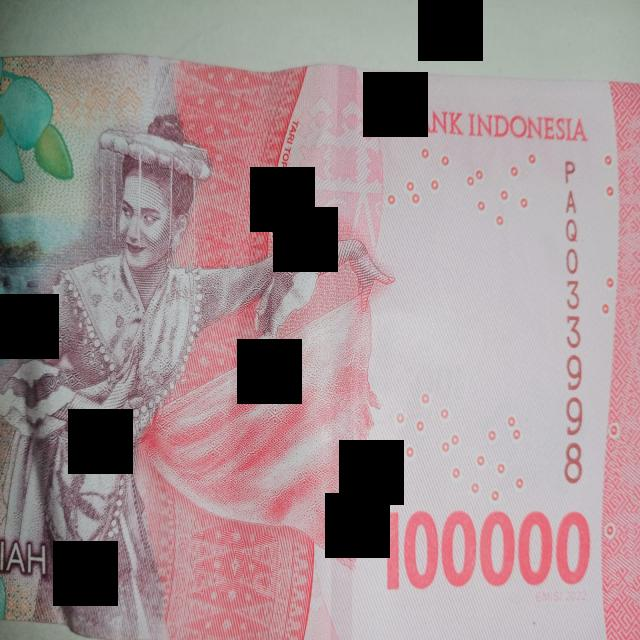seratusribu rupiah: (0, 55, 640, 638)
